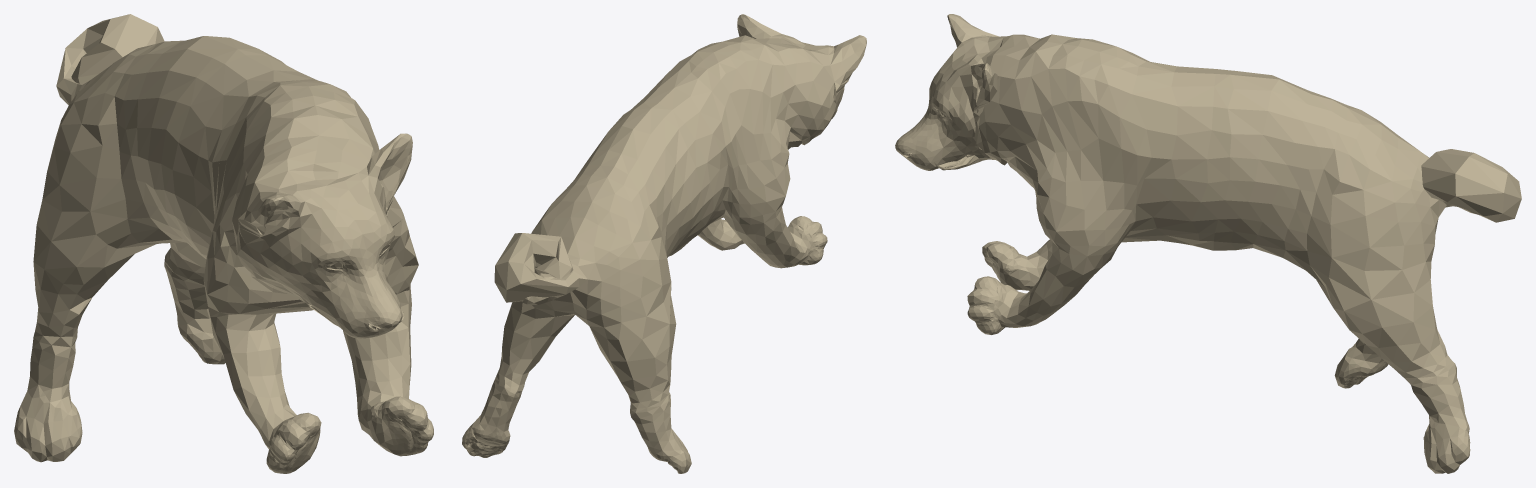
3 views of the same model, side by side, from view 1: azimuth 30°, elevation 25°; view 2: azimuth 150°, elevation 25°; view 3: azimuth 270°, elevation 25° (orthographic). The views are drawn at different scales.
Visible parts, largest first — view 1: world; view 2: world; view 3: world.
Part boxes in pixels (bbox=[...]): world: bbox=[14, 14, 433, 473]; world: bbox=[462, 14, 866, 473]; world: bbox=[895, 14, 1521, 473].
Bounding box in the file's own units: 0.5005 × 0.818 × 1.23.
